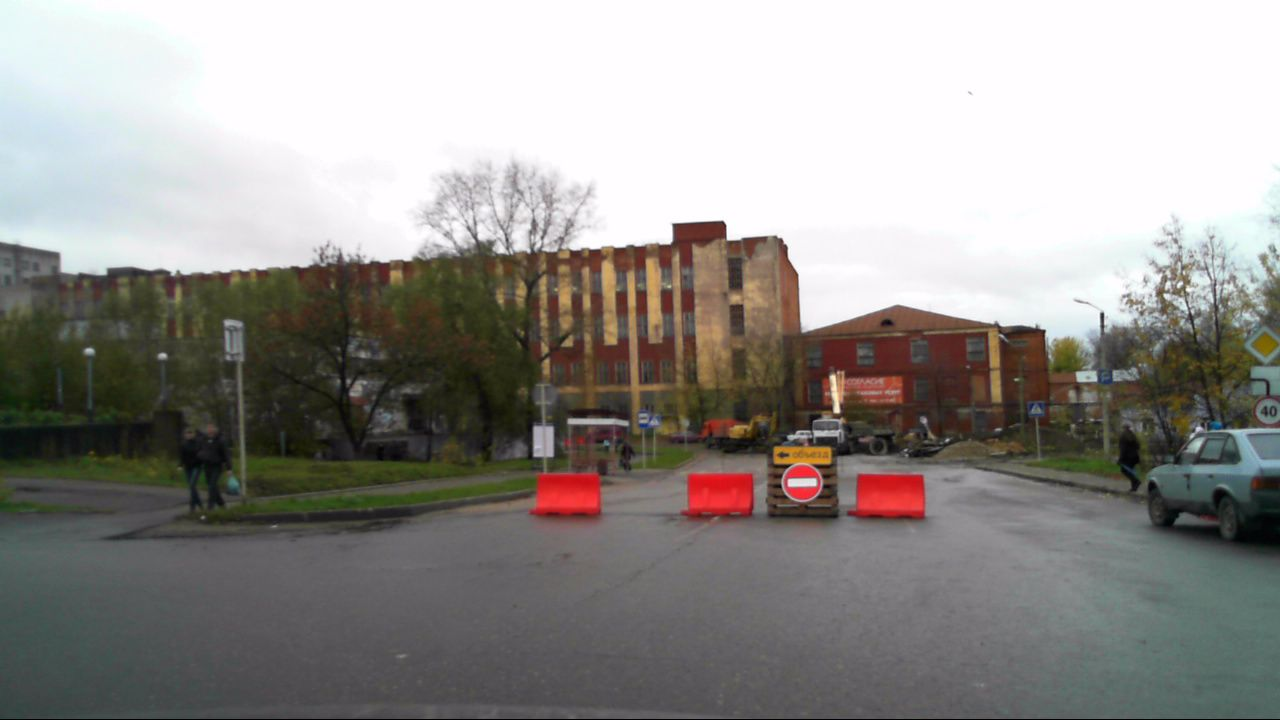speed_warning_40: (1250, 397, 1279, 427)
